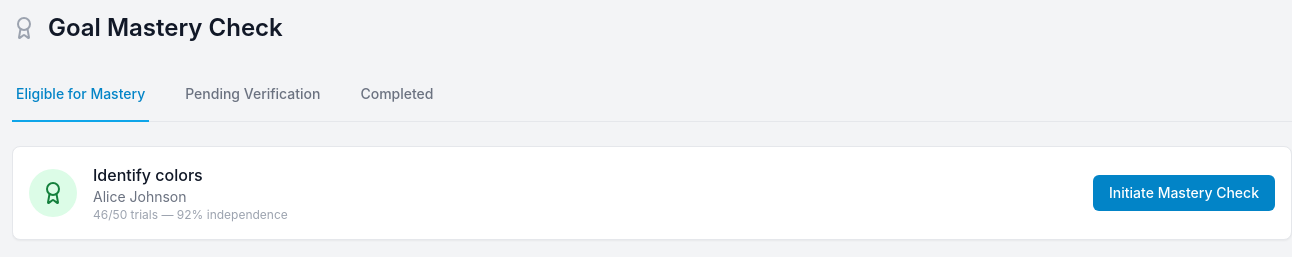
Test case: MasteryCheckPage › shows completed checks tab
Expected: the text "Identify colors" is shown, [93,165,203,185]
Click the button "Completed": (397, 95) [356,68,438,122]
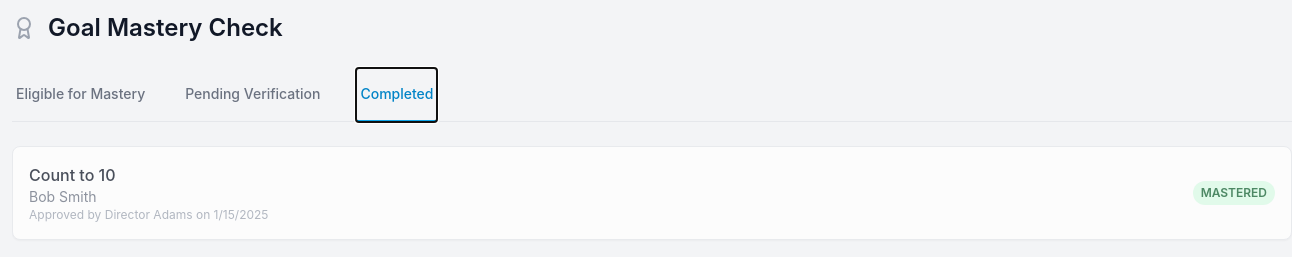
Expected: the text "Count to 10" is shown, [29,165,116,185]
Expected: the text "MASTERED" is shown, [1201,185,1267,200]
